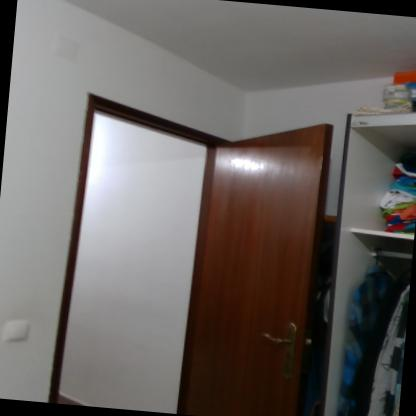semi: (41, 97, 324, 415)
